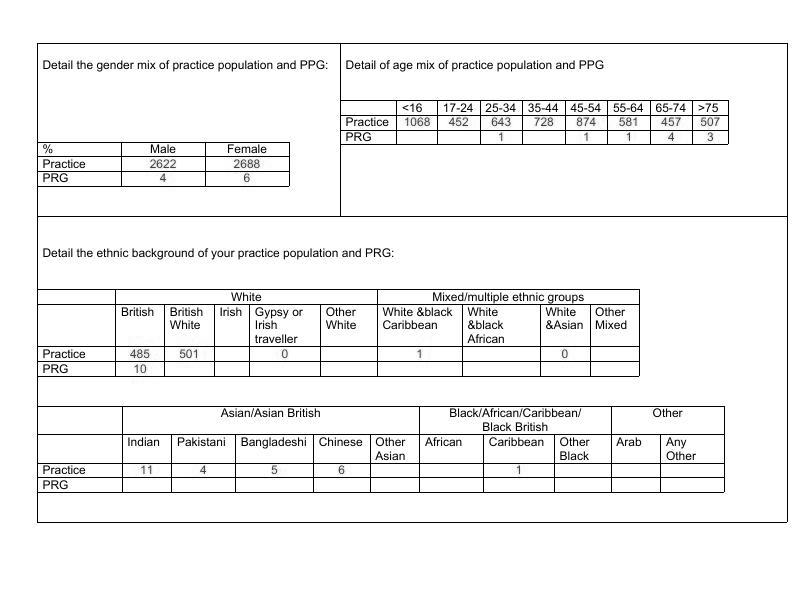table: (32, 401, 734, 498), (35, 287, 646, 382), (338, 97, 734, 149), (34, 139, 296, 192)
text: (41, 56, 330, 76), (344, 55, 604, 77), (39, 246, 400, 261)
